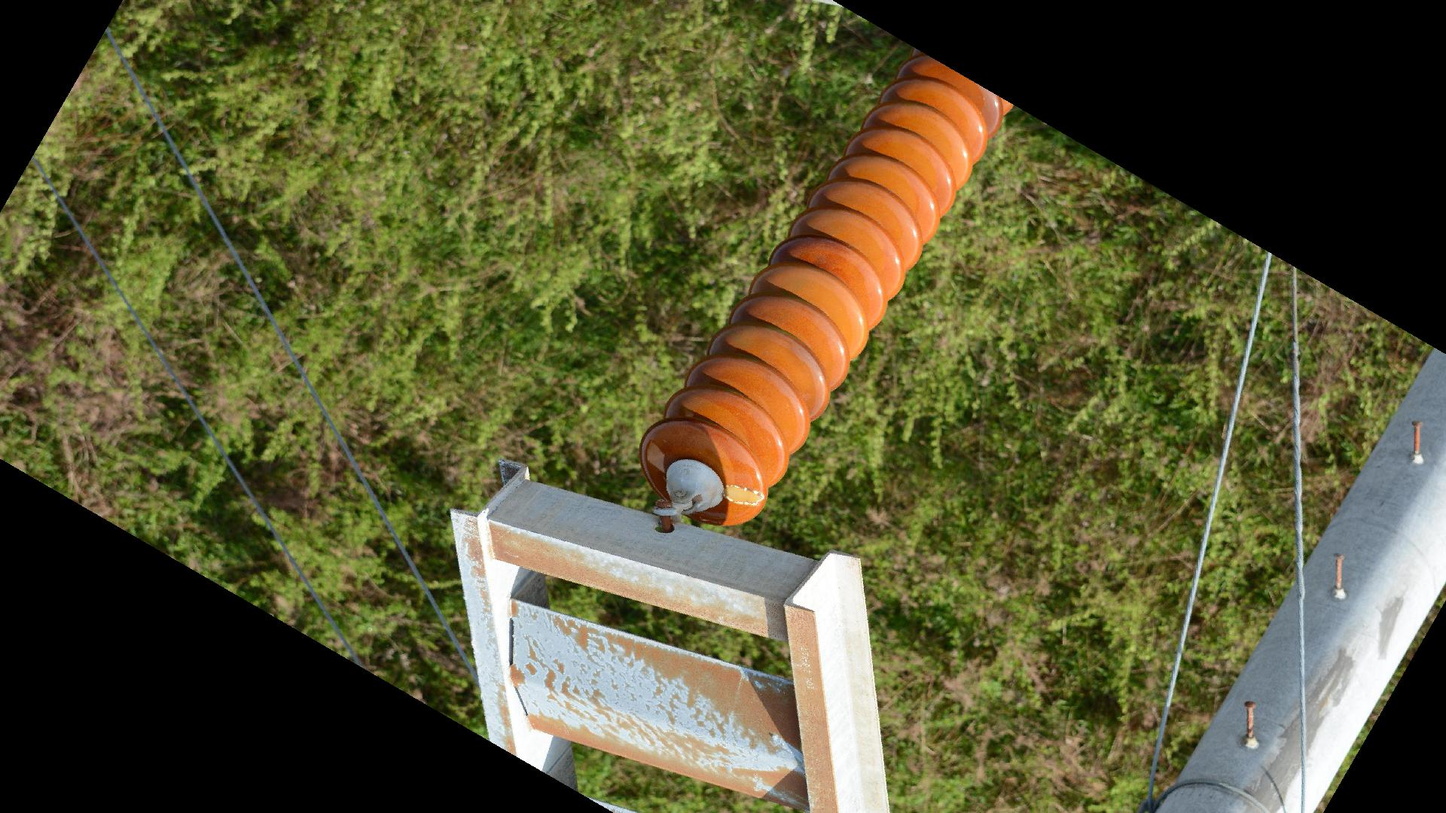insulator: (634, 44, 1018, 531)
insulator_flashover: (718, 481, 767, 509)
